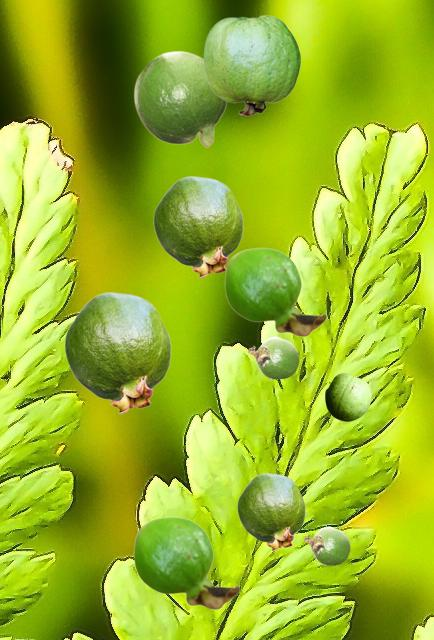guava: (64, 292, 170, 413), (133, 516, 239, 609), (203, 15, 300, 115), (224, 247, 326, 336), (133, 50, 226, 147), (153, 176, 242, 277), (237, 473, 304, 550), (325, 373, 370, 420), (248, 336, 298, 378), (304, 526, 349, 564)
